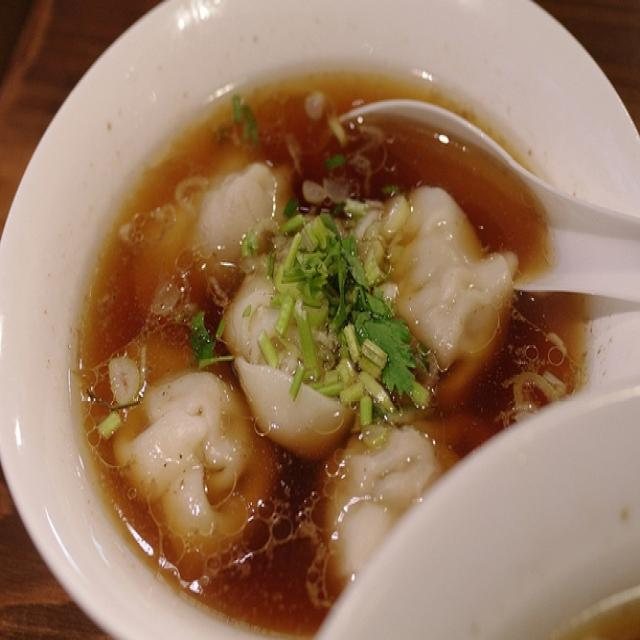带馅早点: (1, 1, 632, 637)
